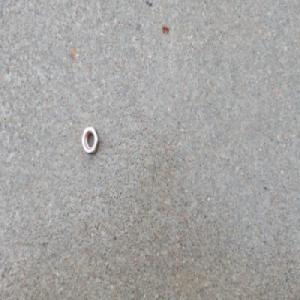Nut: (81, 125, 99, 155)
